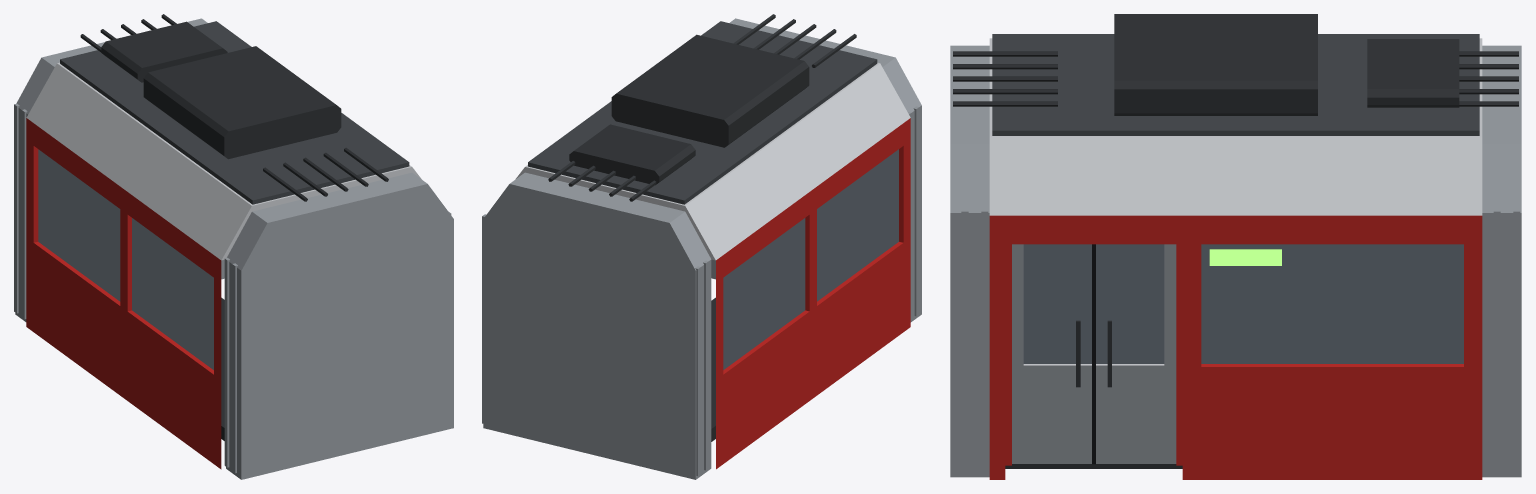
The picture shows the model from 3 angles, left to right: view 1: azimuth 30°, elevation 25°; view 2: azimuth 150°, elevation 25°; view 3: azimuth 270°, elevation 25°; orthographic projection. The views are drawn at different scales.
Parts seen in each view (by area): view 1: 14t-d; view 2: 14t-d; view 3: 14t-d.
Part boxes in pixels (left/top/right/bottom): 14t-d: left=14, top=14, right=453, bottom=479; 14t-d: left=482, top=14, right=921, bottom=479; 14t-d: left=950, top=14, right=1521, bottom=479.
Bounding box in the file's own units: 2.46 × 3.2 × 4.35.
